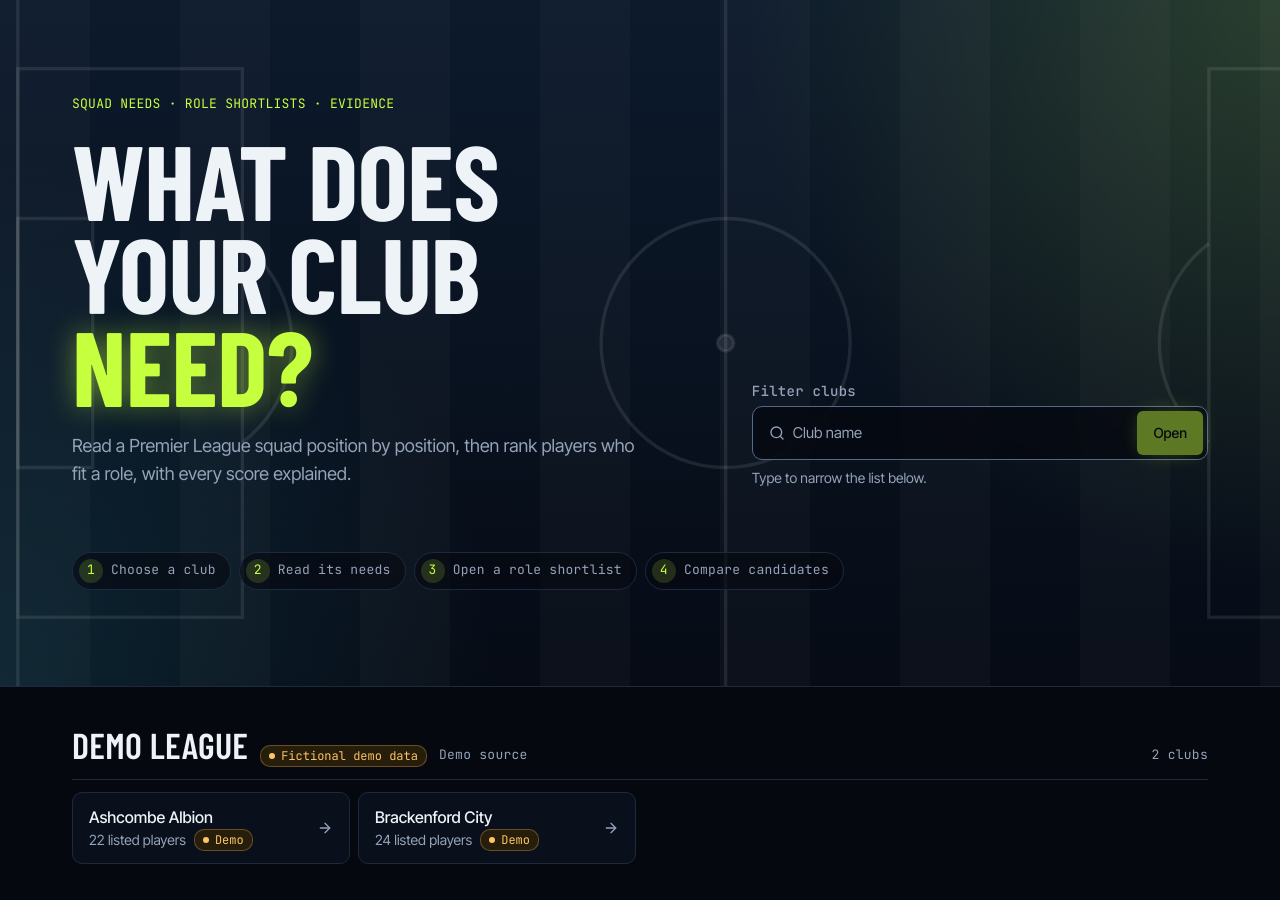
Test: HomePage › lists clubs with demo badges and filters them by name
The image size is (1280, 900).
Check: the text "Ashcombe Albion" is shown, box [89,807,213,827]
Check: the text "Demo" is shown 2 times, box [194,829,253,851]; [480,829,539,851]
Type "brack" into the field labelled "Filter clubs" at (945, 433), box [757,411,1133,455]
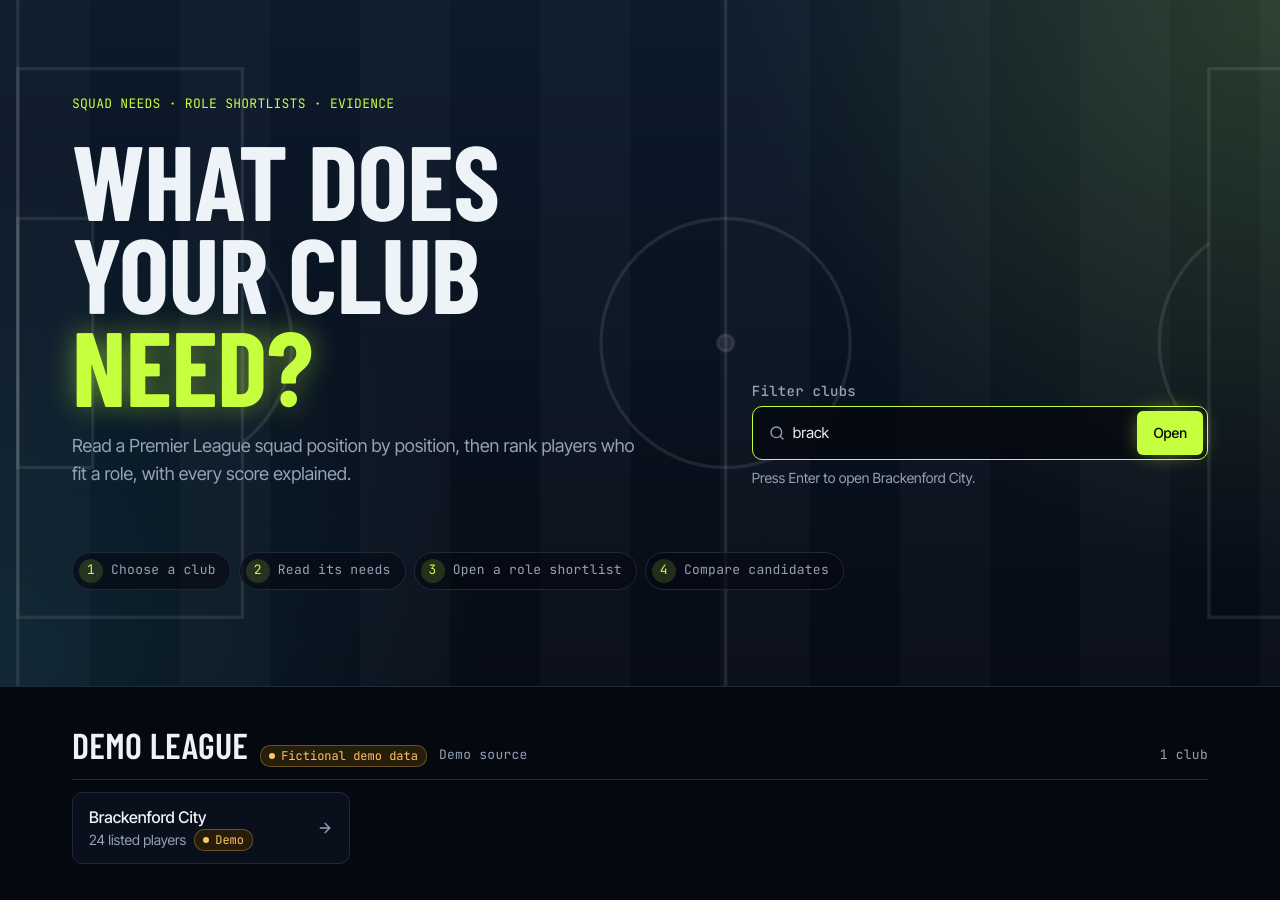
Check: the link "Ashcombe Albion" is gone
